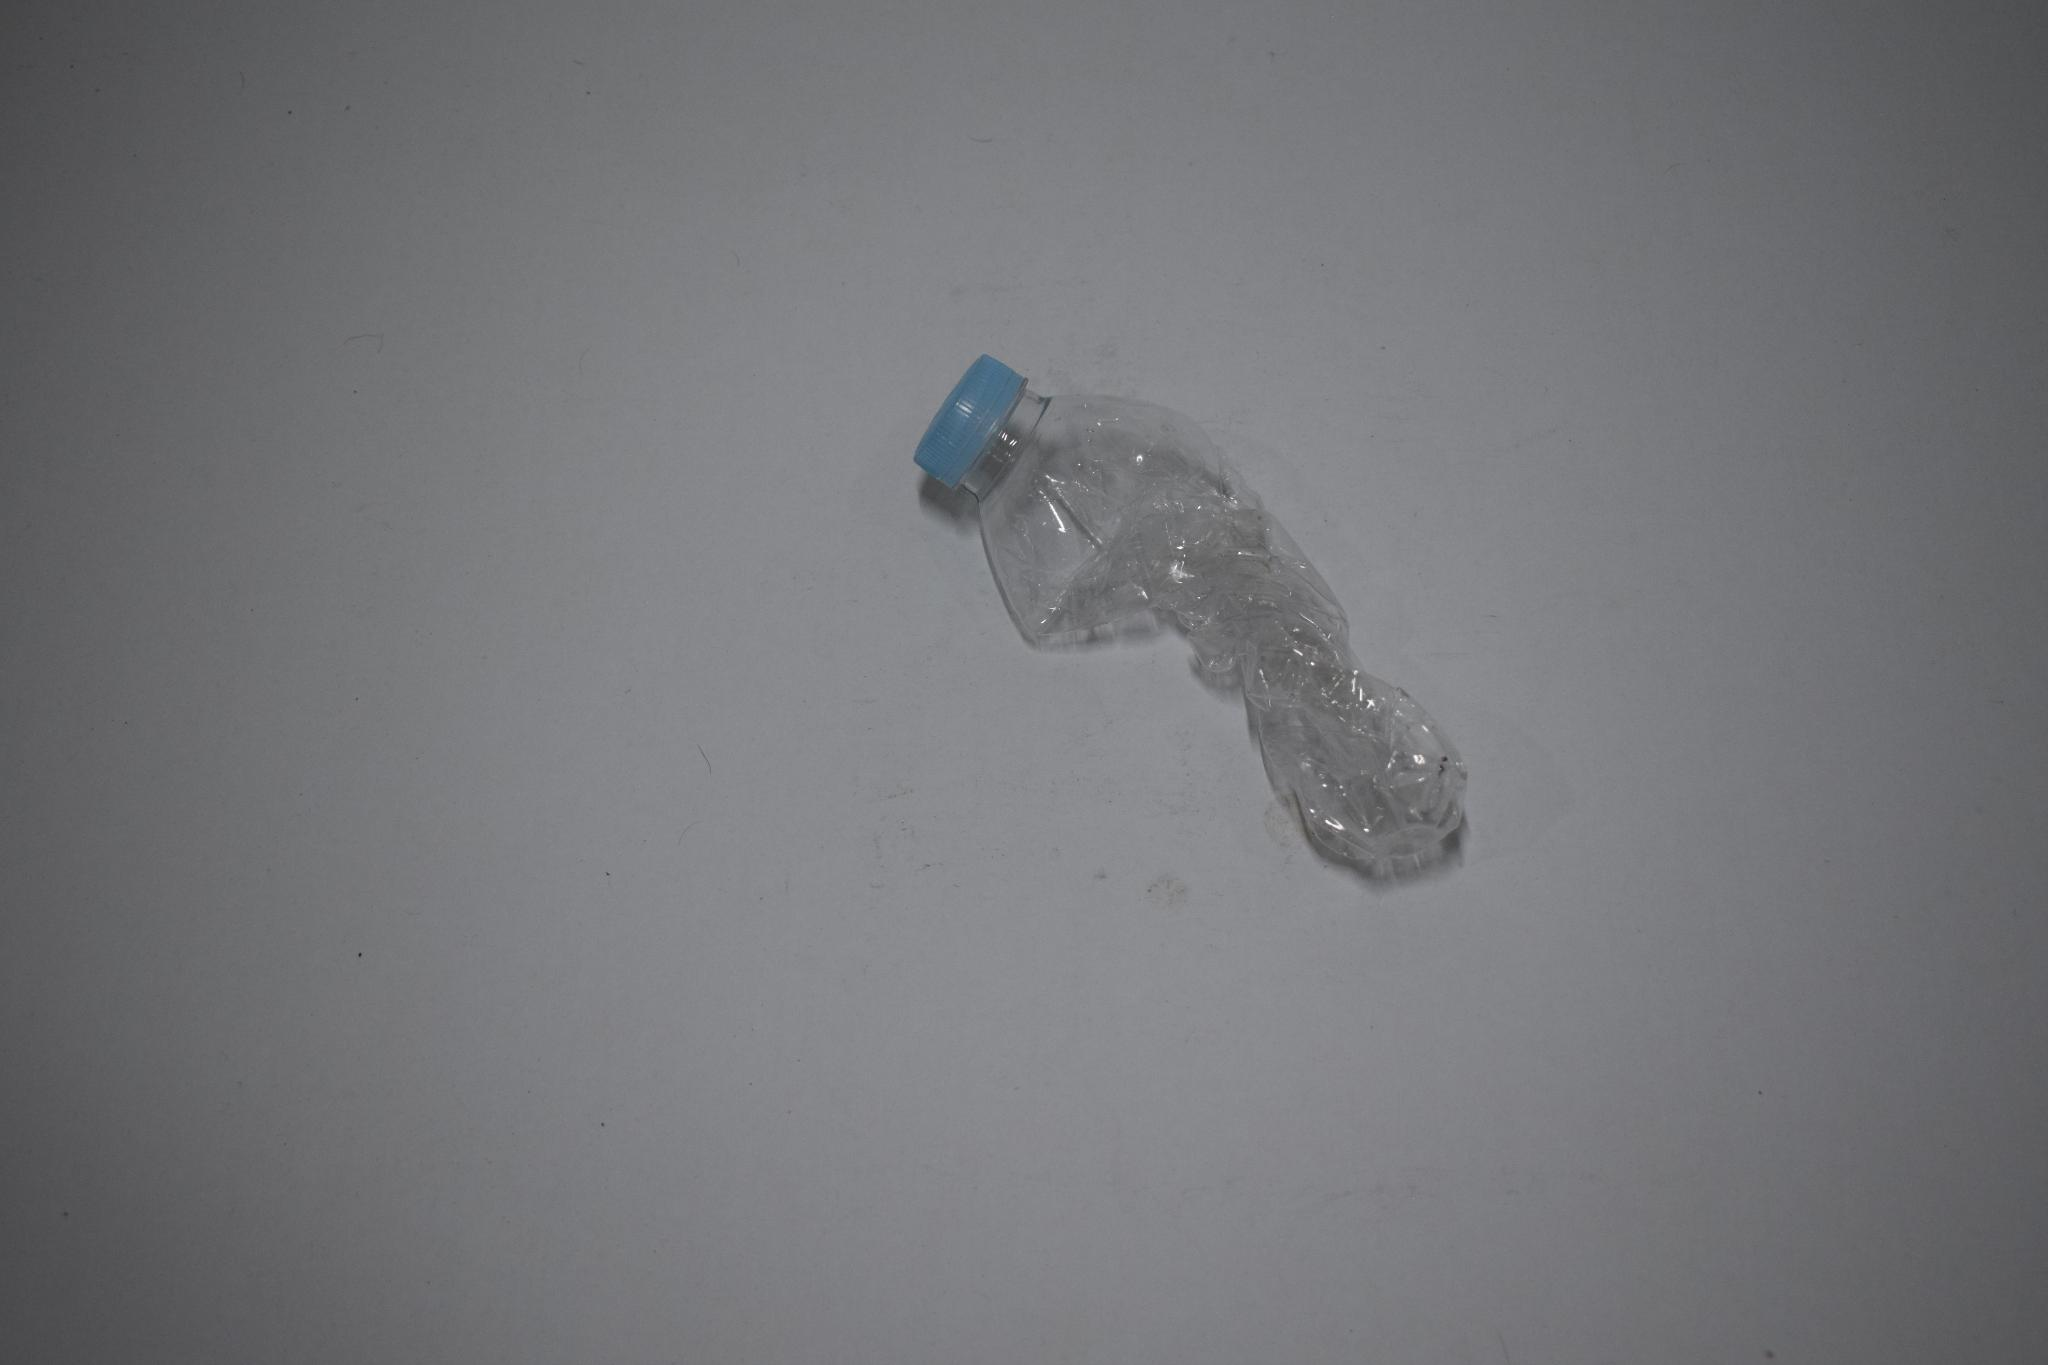bottle: (901, 348, 1545, 924)
